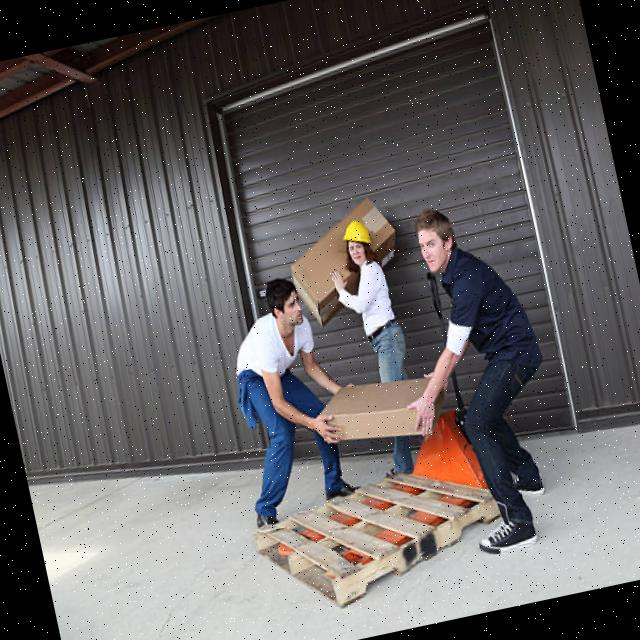Wooden-Pallets: (244, 460, 502, 612)
